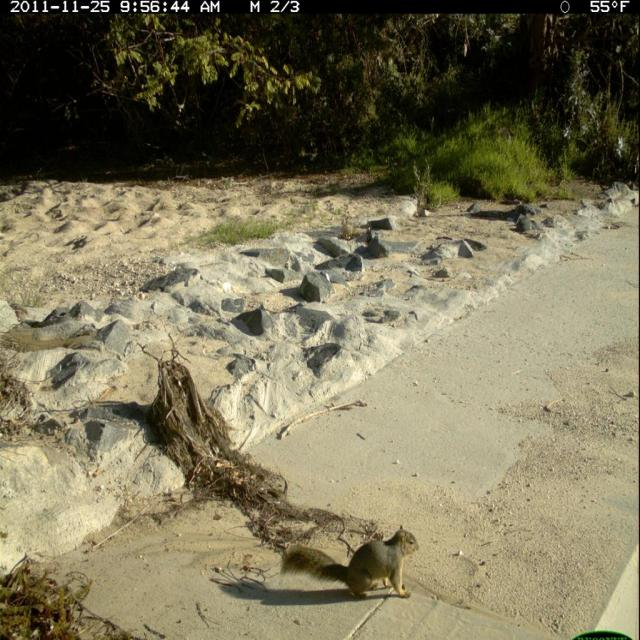squirrel: (273, 522, 426, 613)
